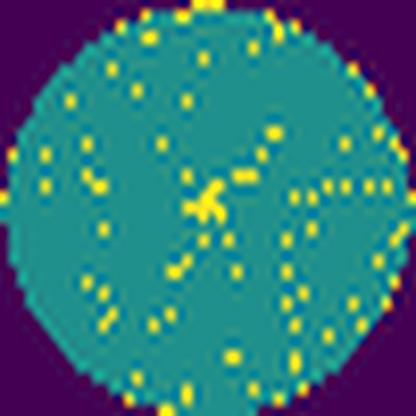Center: (178, 178, 228, 226)
